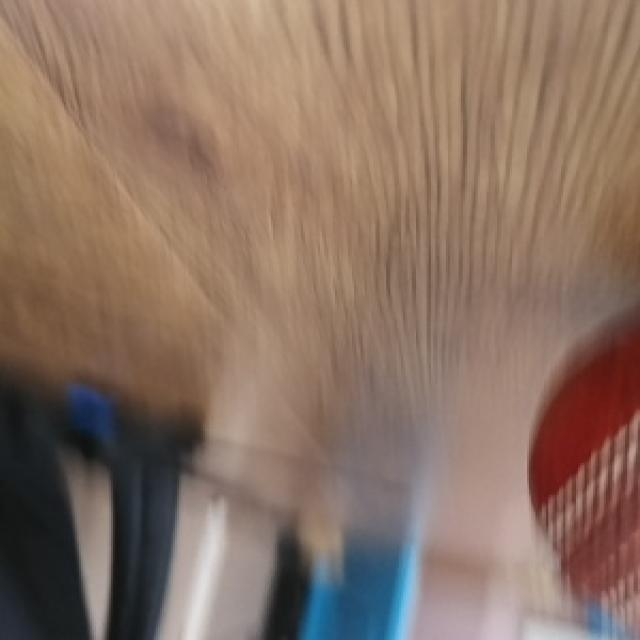ball: (527, 305, 640, 617)
